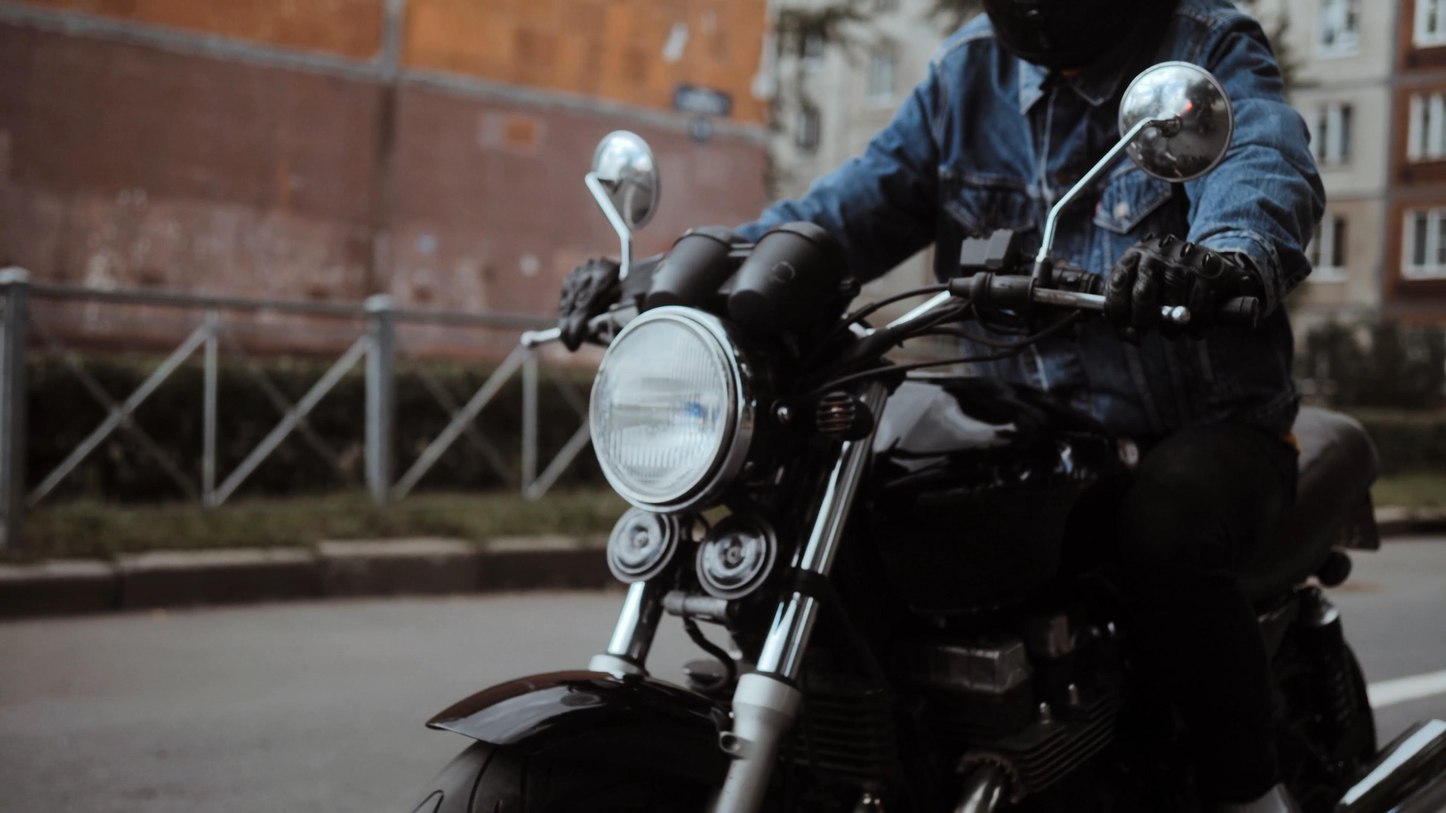driver: (414, 0, 1446, 813)
